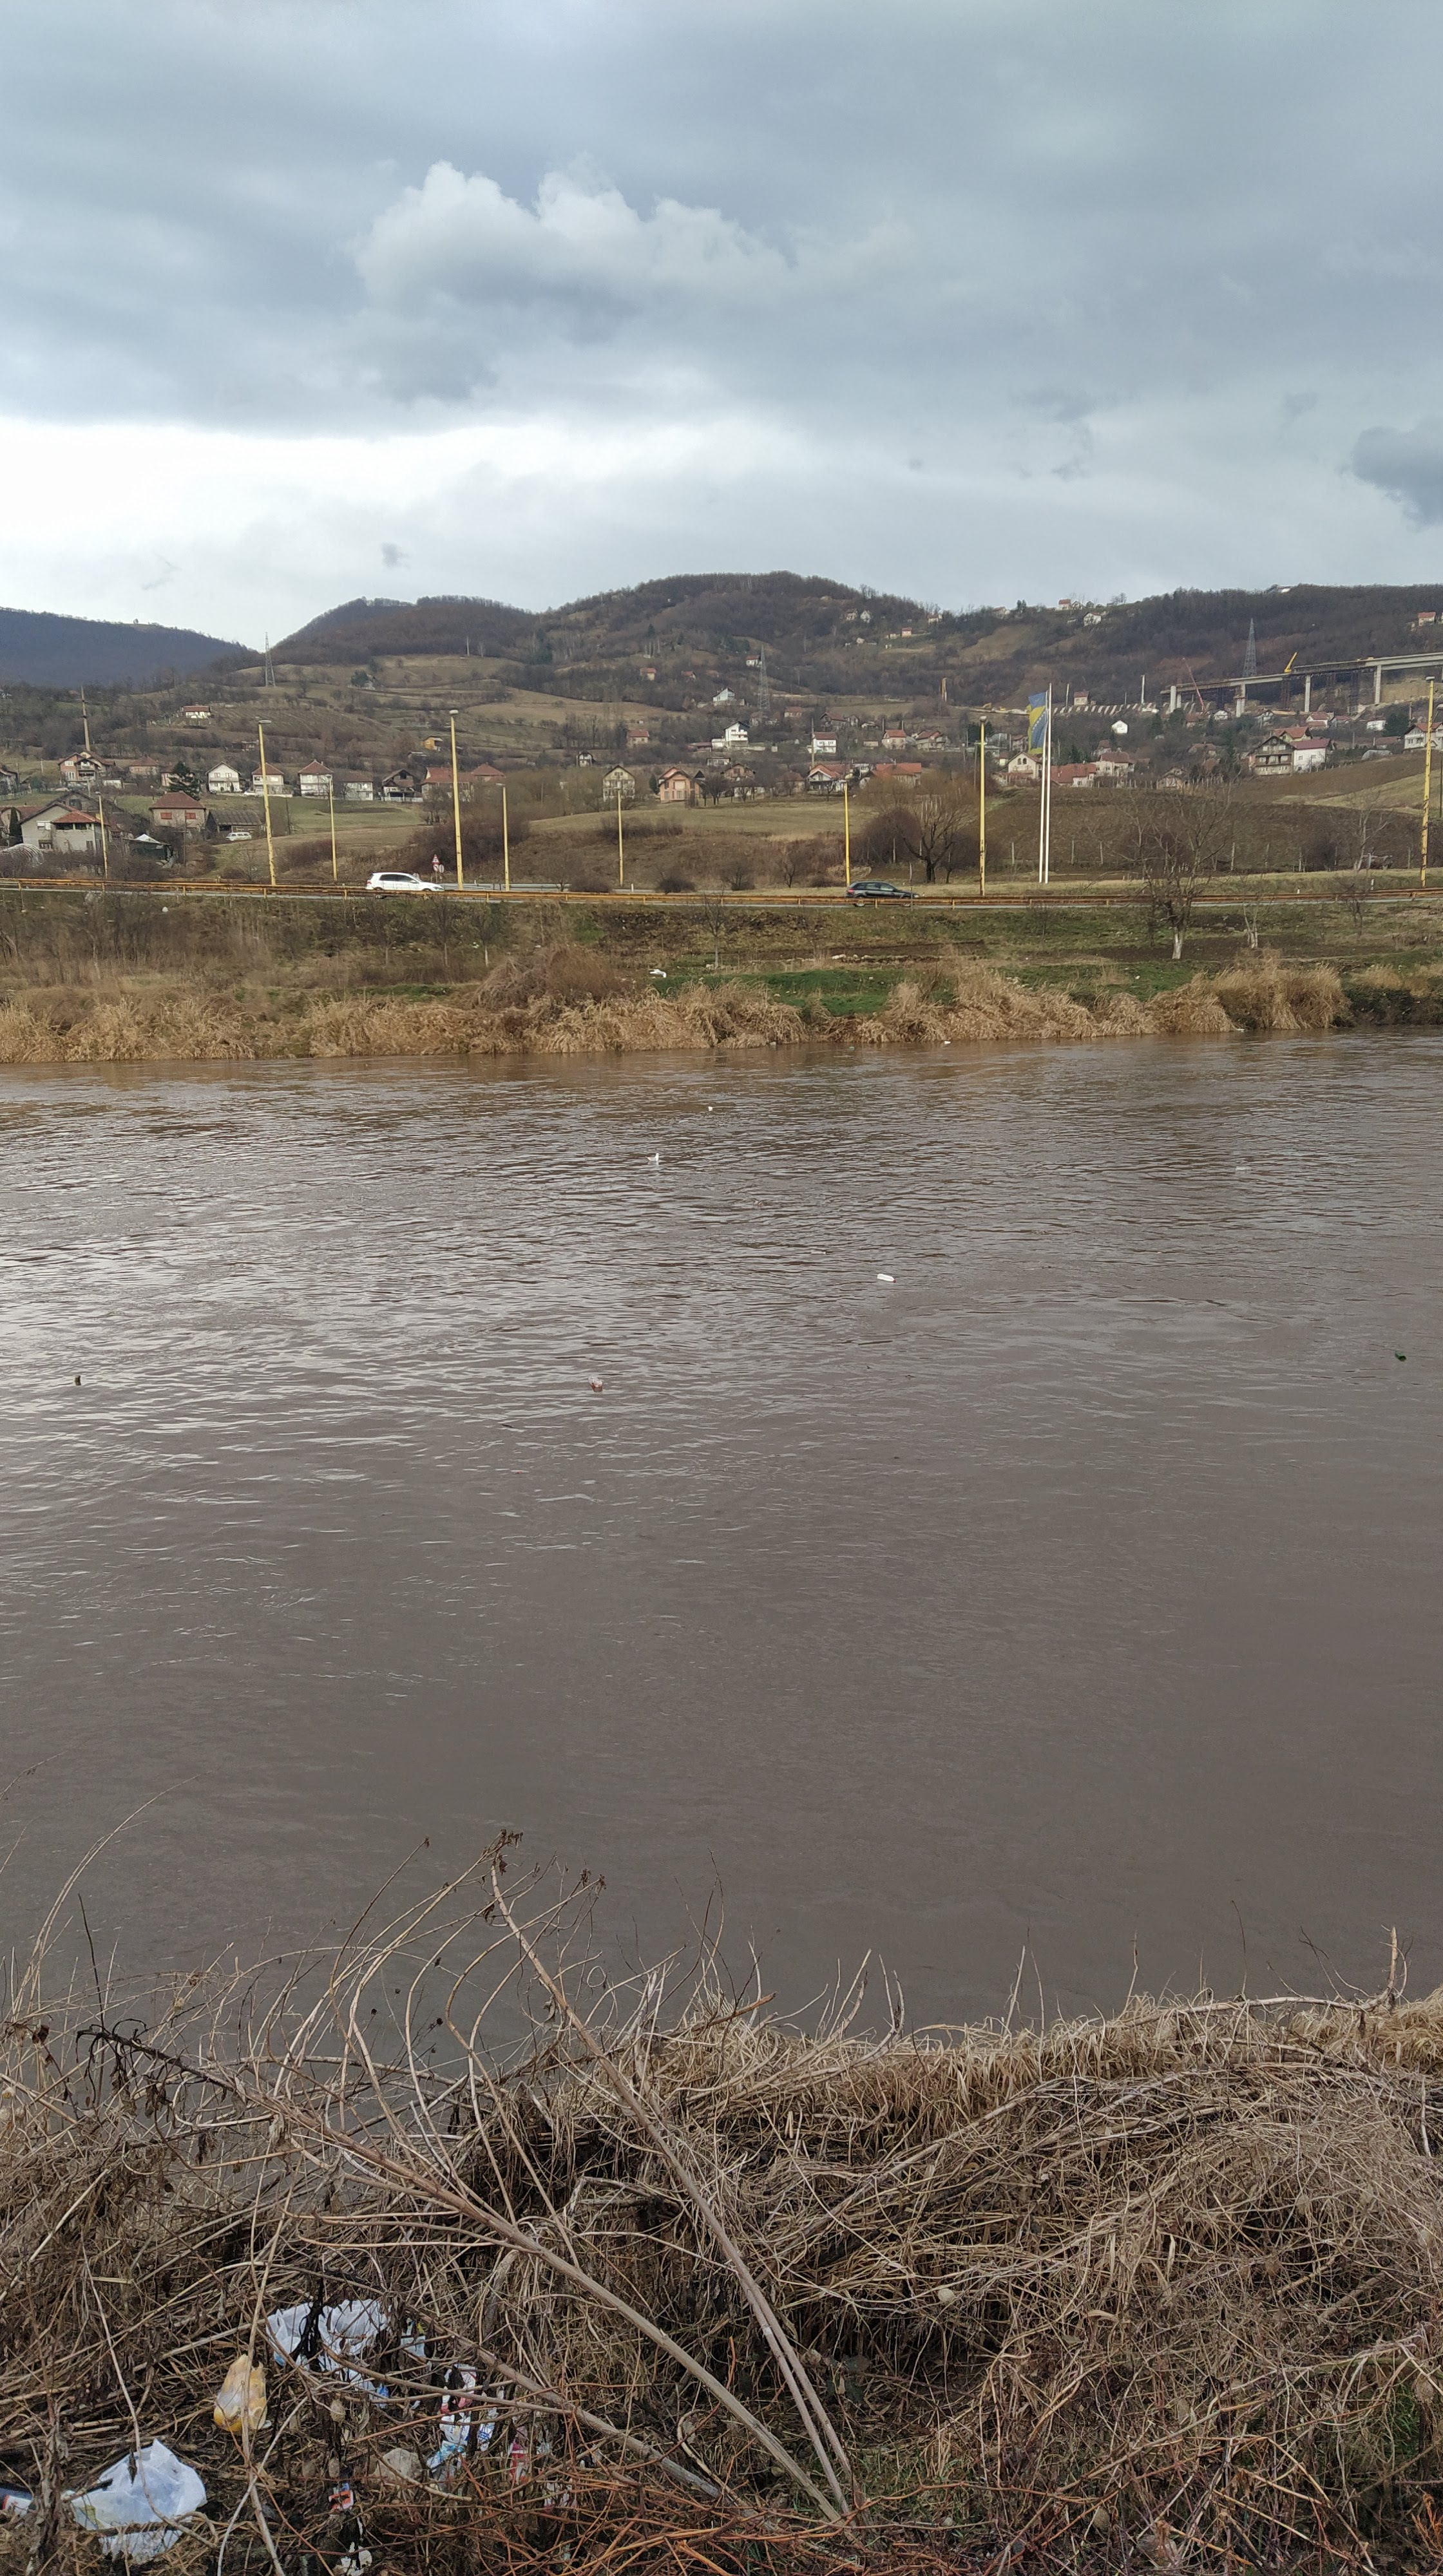Plastic Bottle: (590, 1373, 602, 1387), (876, 1274, 894, 1283), (1395, 1350, 1404, 1361), (1236, 1166, 1248, 1171), (811, 1251, 825, 1254), (74, 1375, 80, 1382), (944, 1040, 949, 1044), (708, 1106, 712, 1109)
